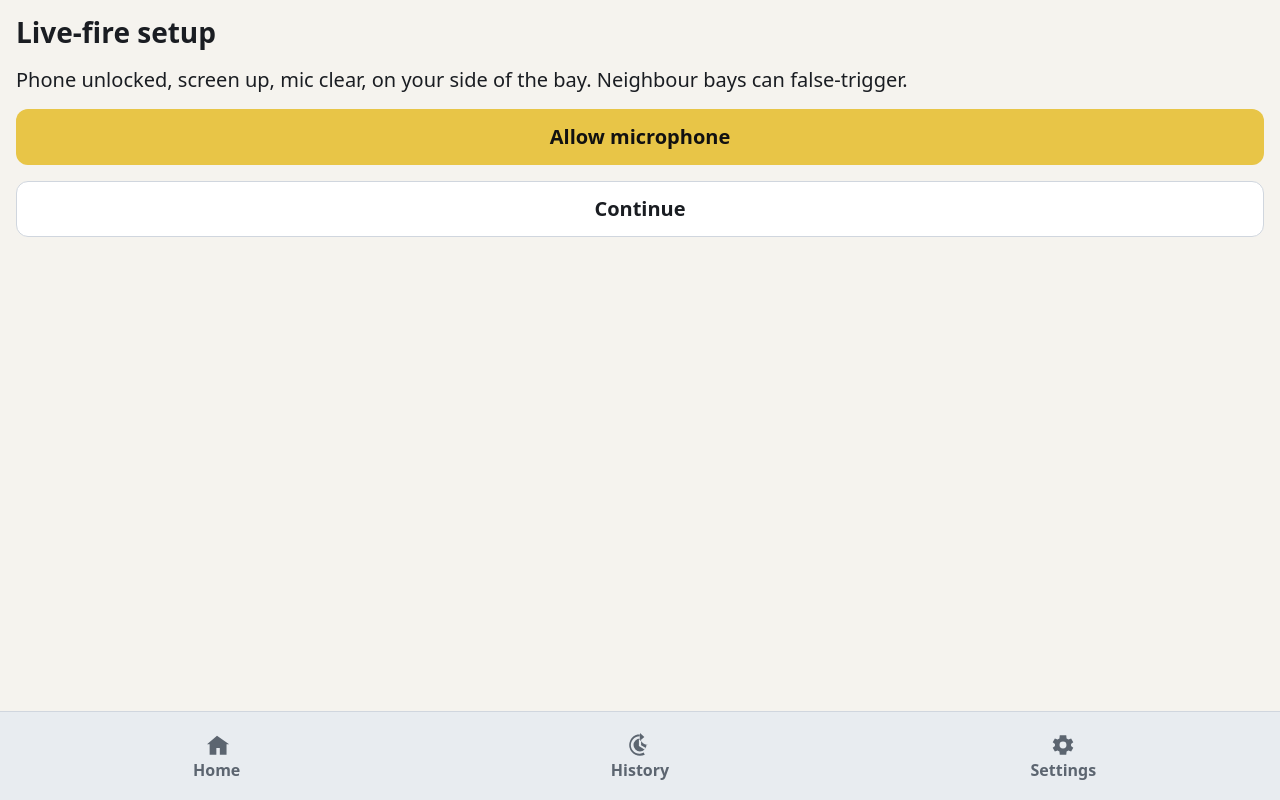
Test: pages › grants microphone permission on preflight
Click the button with test id "grant-mic" at (640, 137), box top-left (16, 109), bottom-right (1264, 165)
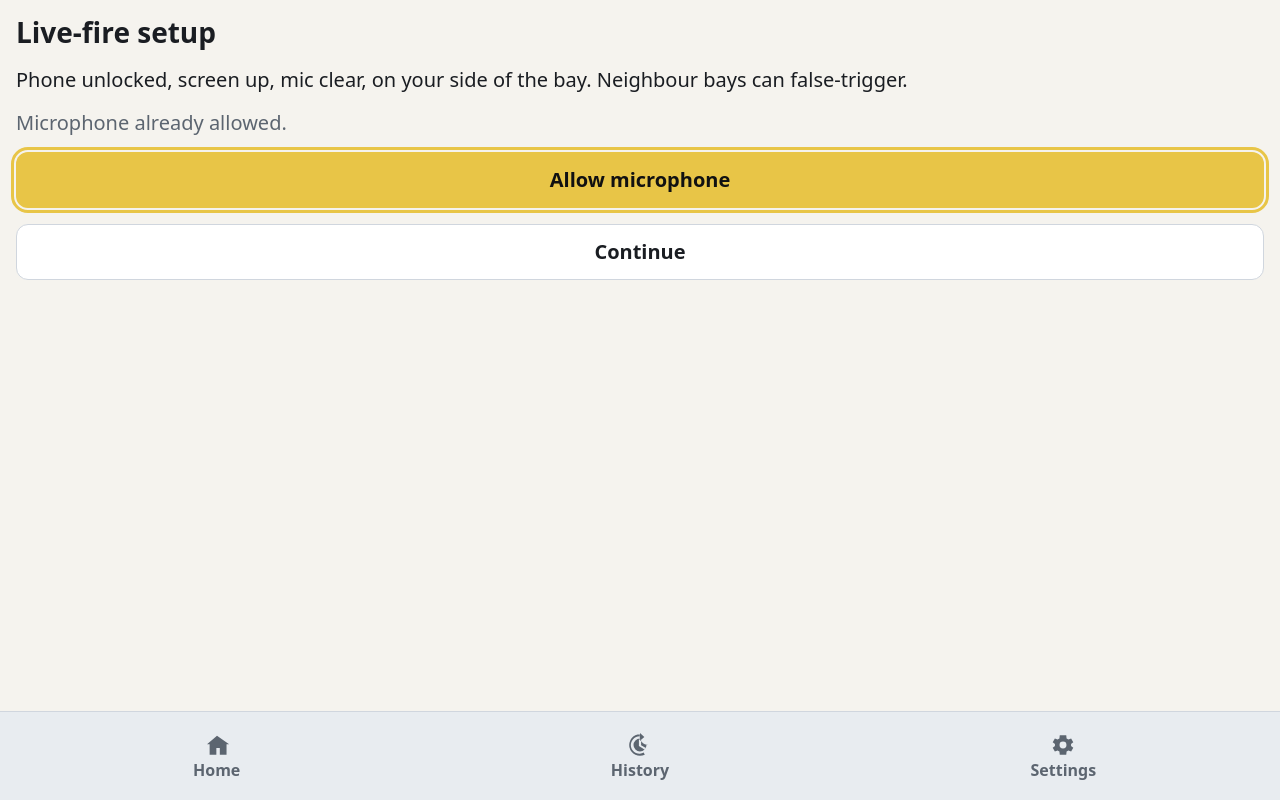
expect the text "Microphone already allowed." is shown: met, box top-left (16, 109), bottom-right (287, 136)
